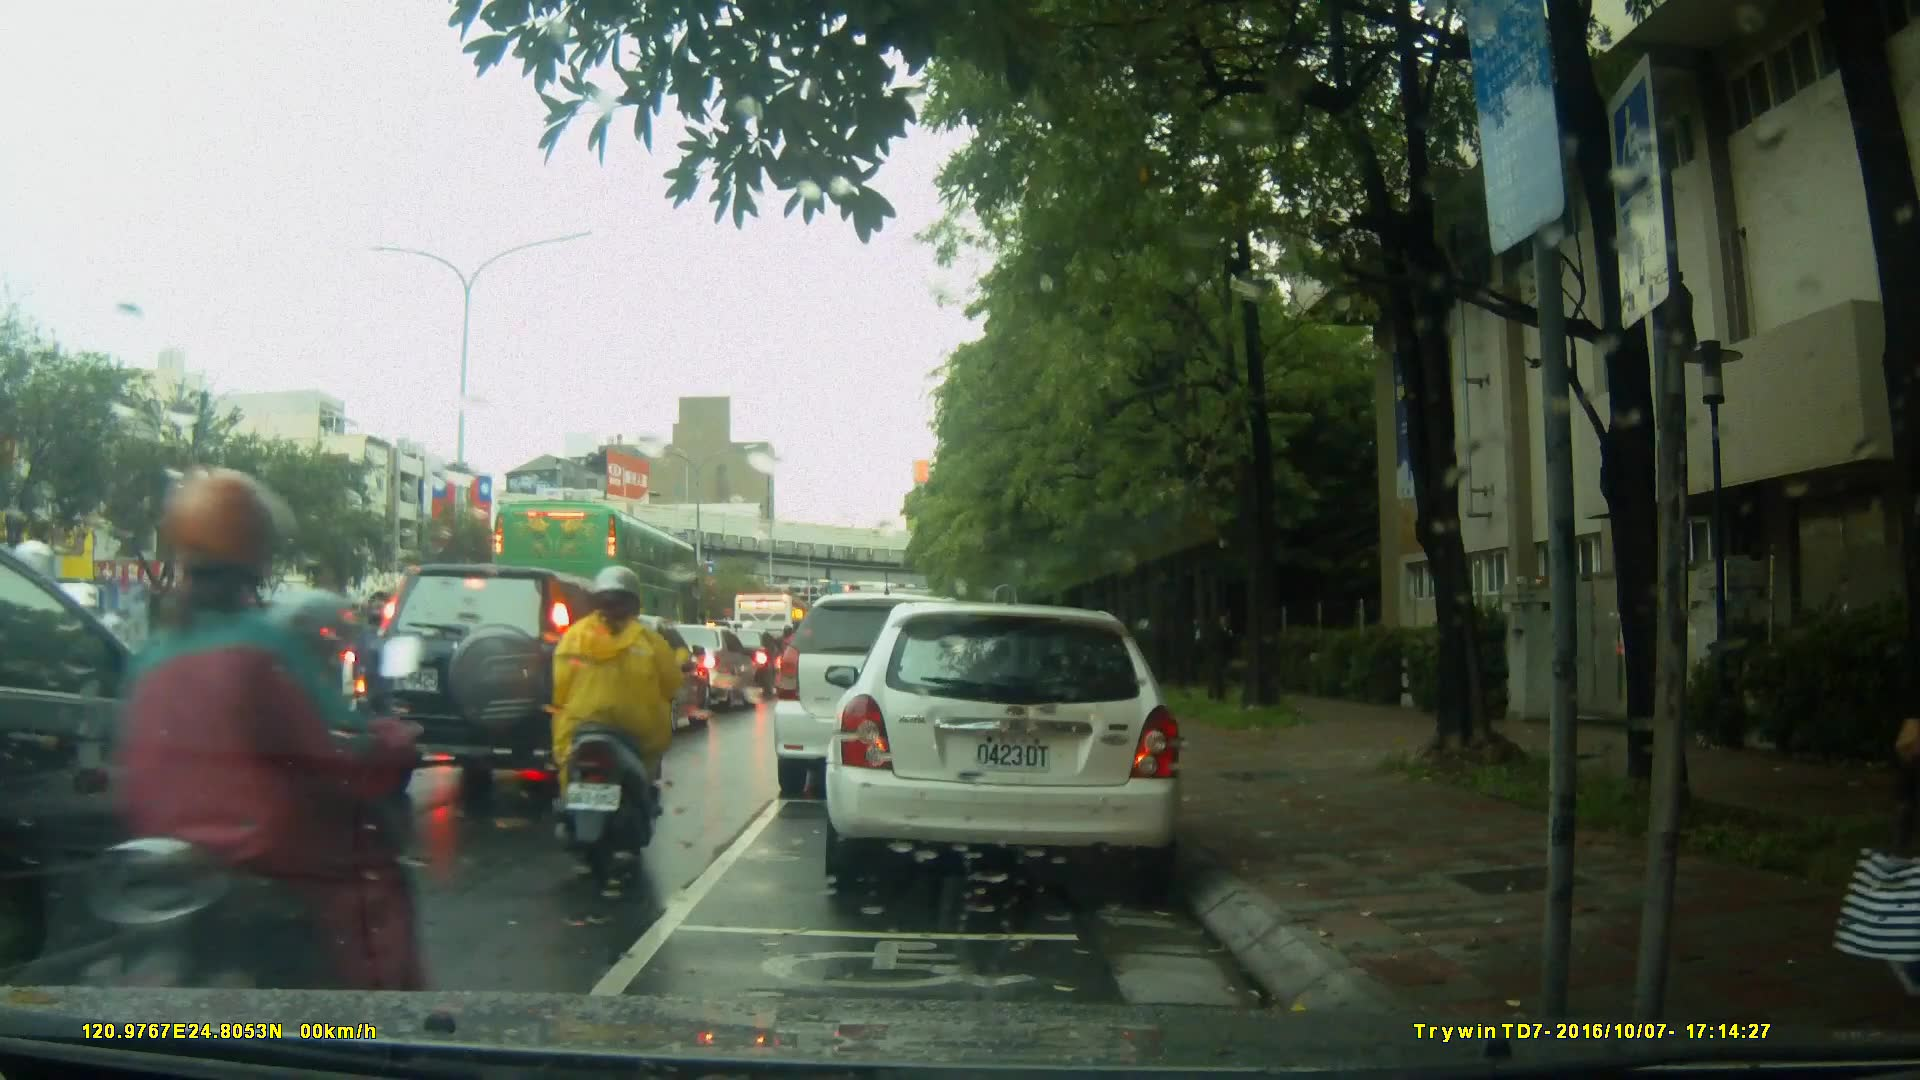pedestrian: (1833, 447, 1920, 994)
rider: (54, 447, 425, 1076), (549, 561, 688, 884)
vehicle: (1, 529, 264, 988), (831, 592, 1196, 897), (370, 560, 649, 811), (770, 592, 999, 801), (493, 497, 704, 659), (638, 624, 760, 713)
